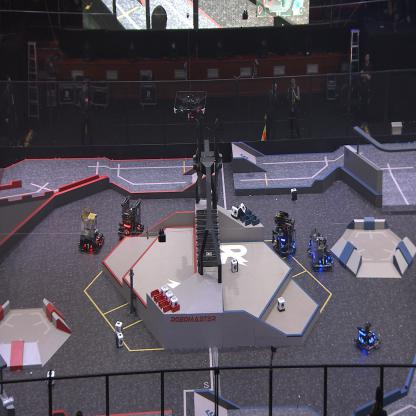car: (117, 194, 145, 244), (271, 210, 296, 257), (78, 211, 105, 253), (310, 230, 333, 273), (354, 319, 380, 354)
